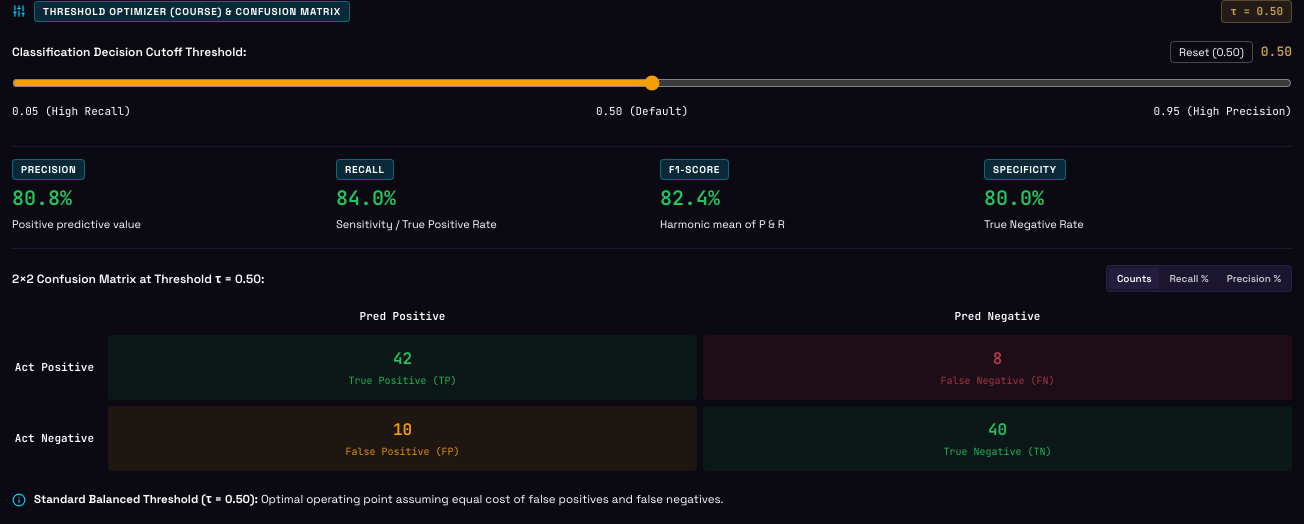
Experiment Tracking & Model Diagnostics › ThresholdOptimizer › updates simulated operating metrics when threshold slider is changed
The width and height of the screenshot is (1304, 524).
// Change threshold to 0.80 (strict cutoff)
Set the slider to "0.8" at (1073, 83), box [12,75,1292,91]
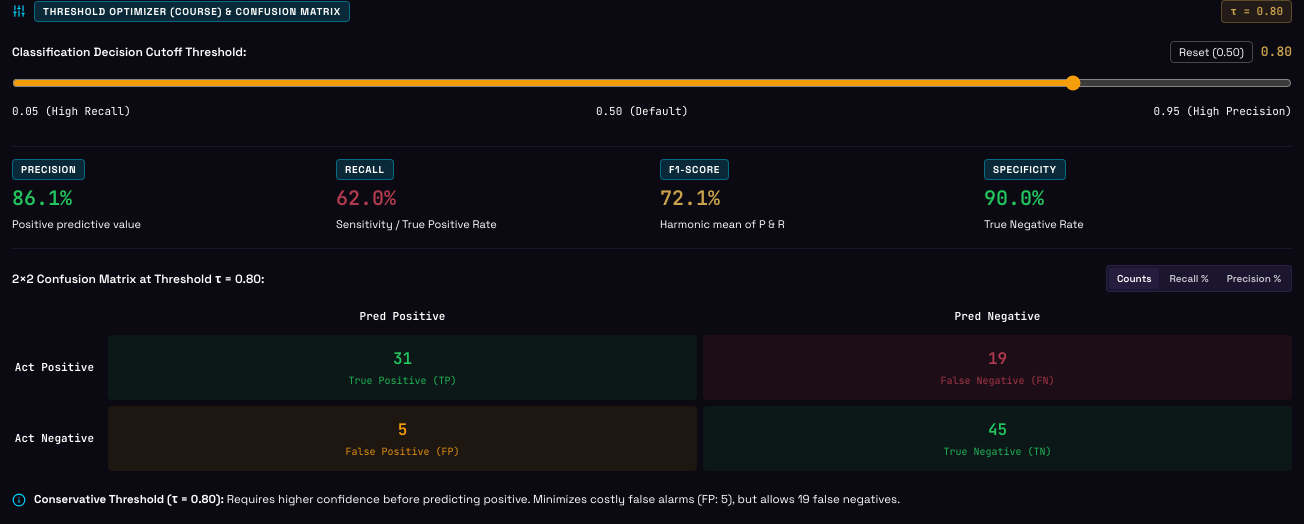
Now the text "τ = 0.80" is shown, box [1221,0,1292,22]
Now the text "Conservative Threshold (τ = 0.80):" is shown, box [34,492,224,506]
